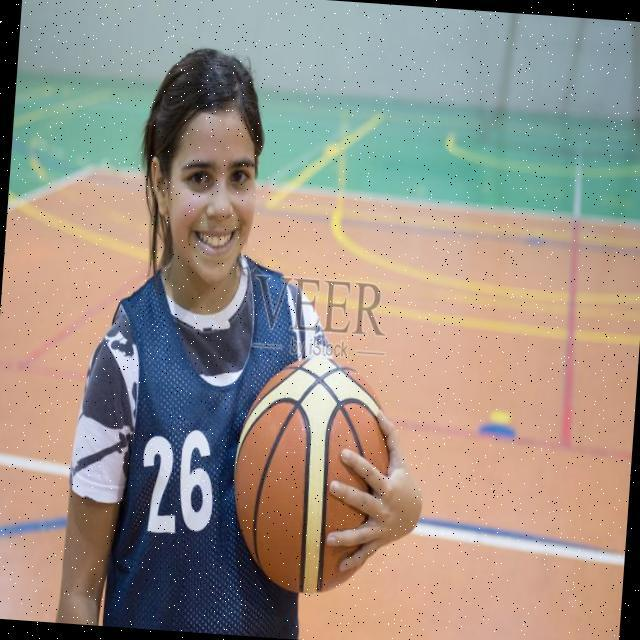ball: (227, 352, 394, 596)
